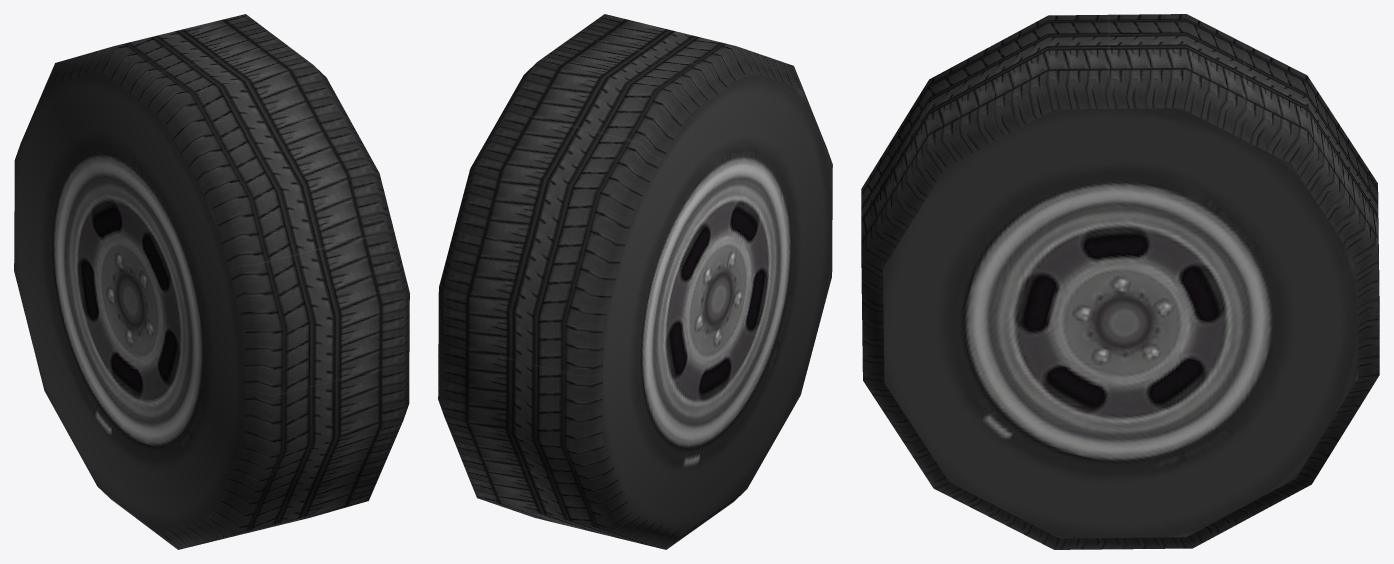
The model's file is WheelAmerican.FBX.
3 views of the same model, side by side, from view 1: azimuth 30°, elevation 25°; view 2: azimuth 150°, elevation 25°; view 3: azimuth 270°, elevation 25° (orthographic). The views are drawn at different scales.
Visible parts, largest first — view 1: wheelAmerican001; view 2: wheelAmerican001; view 3: wheelAmerican001.
Part boxes in pixels (<box>): wheelAmerican001: <box>14,14,409,549</box>; wheelAmerican001: <box>438,14,832,549</box>; wheelAmerican001: <box>861,14,1379,549</box>.
Bounding box in the file's own units: 25.49 × 67.45 × 67.45.
